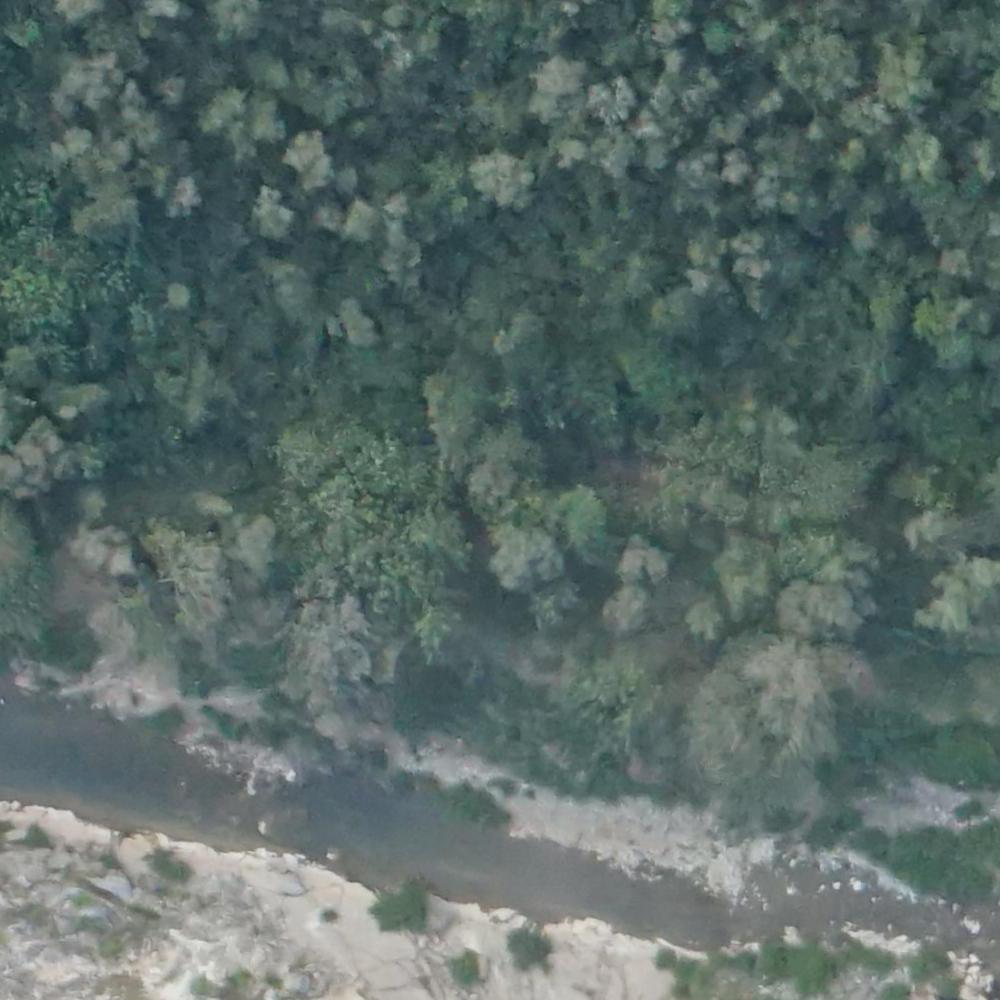tree: (556, 489, 613, 554), (489, 523, 548, 585), (470, 150, 531, 209), (75, 194, 140, 248), (527, 572, 583, 634), (278, 420, 330, 486), (493, 308, 549, 368), (890, 135, 951, 190), (54, 55, 111, 113), (785, 582, 838, 638), (286, 129, 336, 188), (152, 176, 206, 227), (230, 513, 272, 577), (900, 515, 959, 560), (249, 187, 295, 241), (622, 530, 671, 578), (338, 300, 380, 352), (592, 75, 636, 122), (345, 199, 386, 248), (656, 293, 699, 336), (606, 586, 651, 627), (597, 130, 635, 177), (152, 68, 191, 107), (687, 602, 724, 642), (536, 53, 576, 87), (690, 263, 724, 297), (558, 135, 590, 169), (848, 219, 877, 251), (167, 281, 199, 309), (720, 149, 745, 181)
